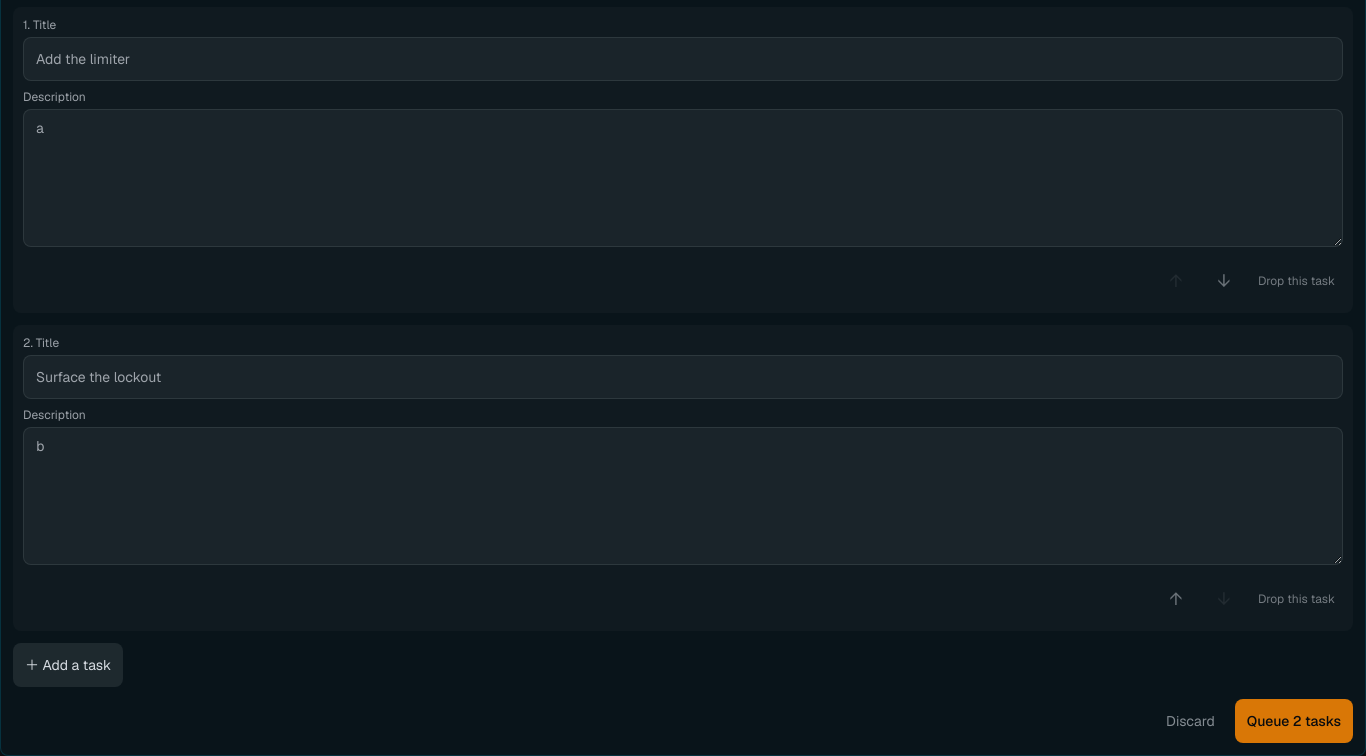
Scenario: BreakdownEditor › reports a refused breakdown and keeps the pieces for another try
The image size is (1366, 756).
(page scrolled)
Click the button "Queue 2 tasks": (1294, 721) [1235,699,1353,743]
(page scrolled)
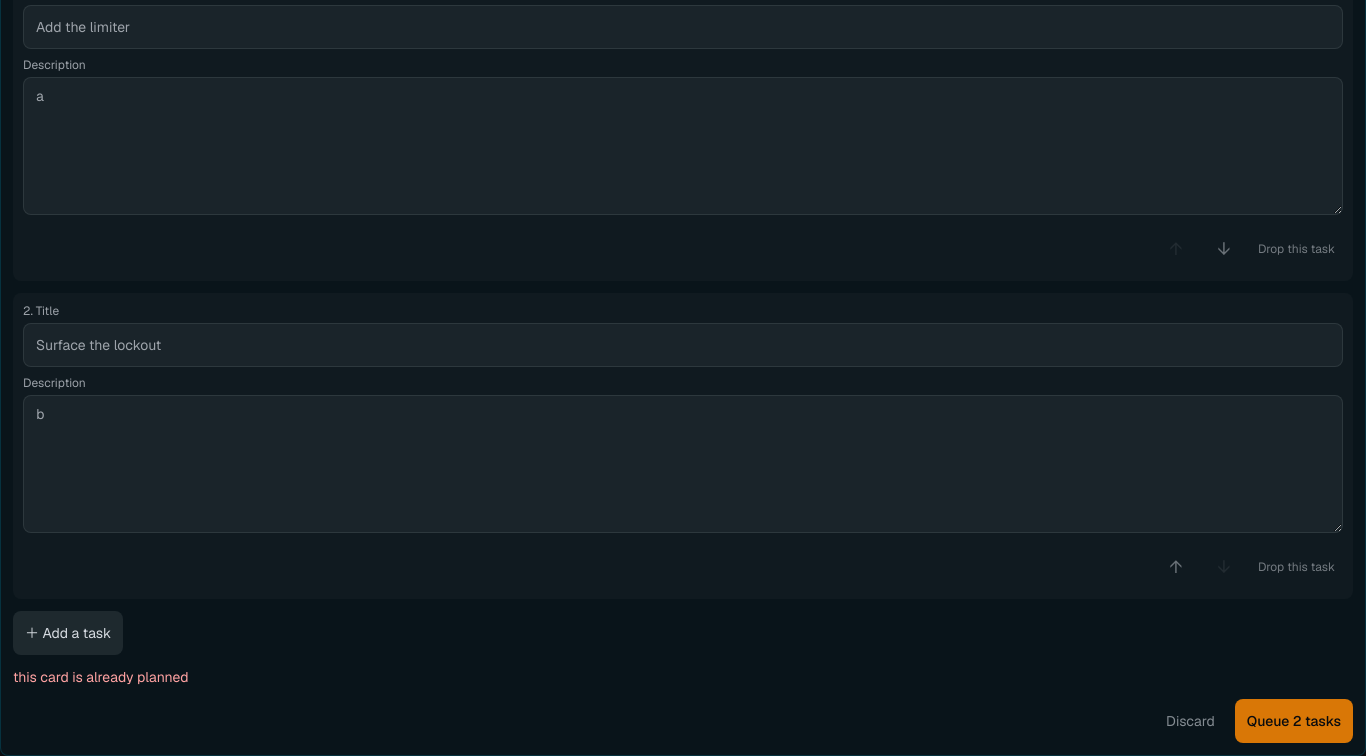
Expected: the field labelled "1. Title" holds "Add the limiter", [23,5,1343,49]
Expected: the message shows "already planned", [13,668,189,686]
